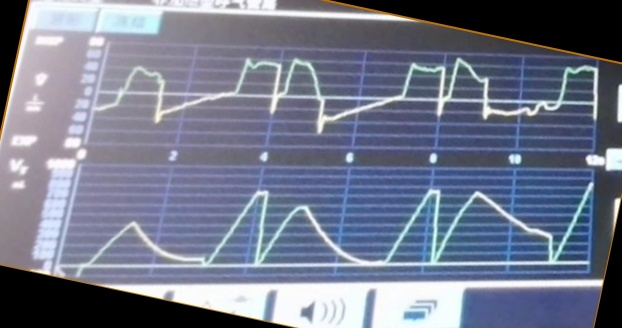Double_Triggering Flow: (109, 56, 597, 144)
Double_Triggering Volume: (78, 181, 592, 275)
